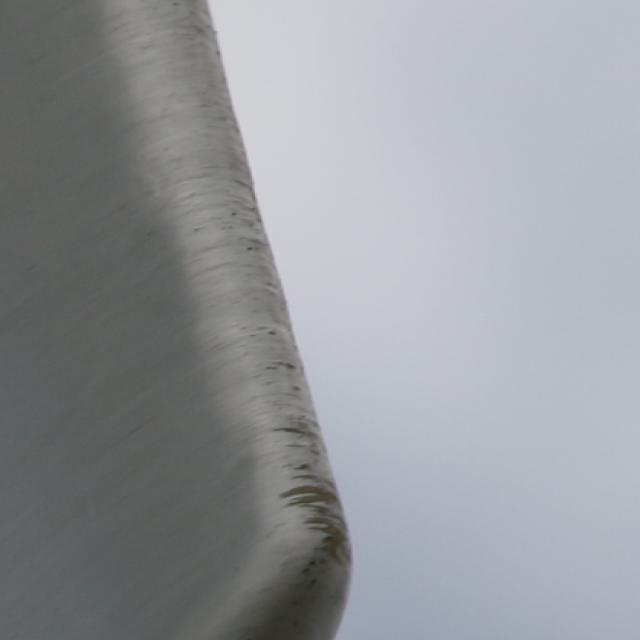EROSION: (190, 192, 359, 560)
